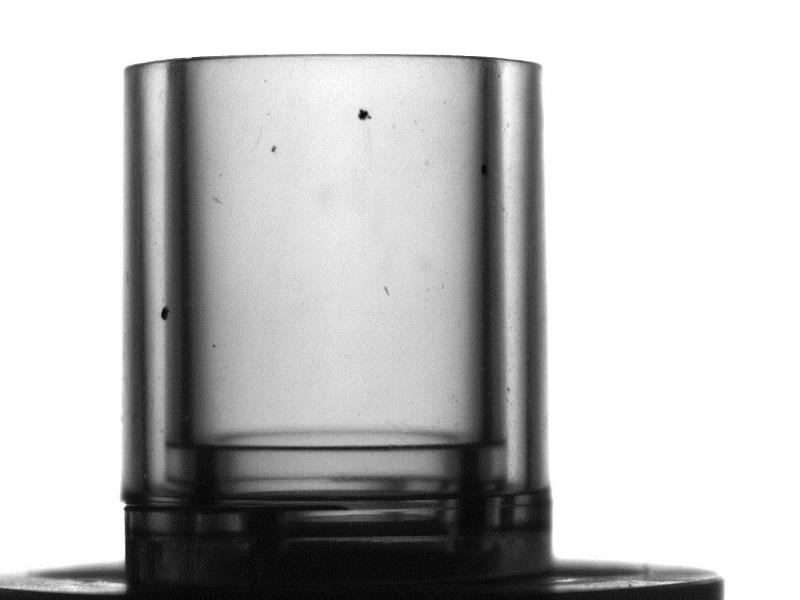blackdot: (157, 301, 176, 325), (357, 105, 375, 124), (270, 142, 283, 154)
